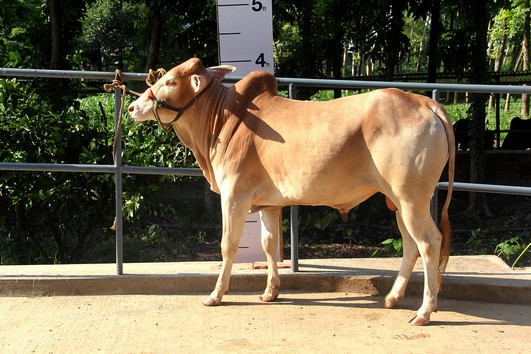cow: (119, 50, 460, 331)
